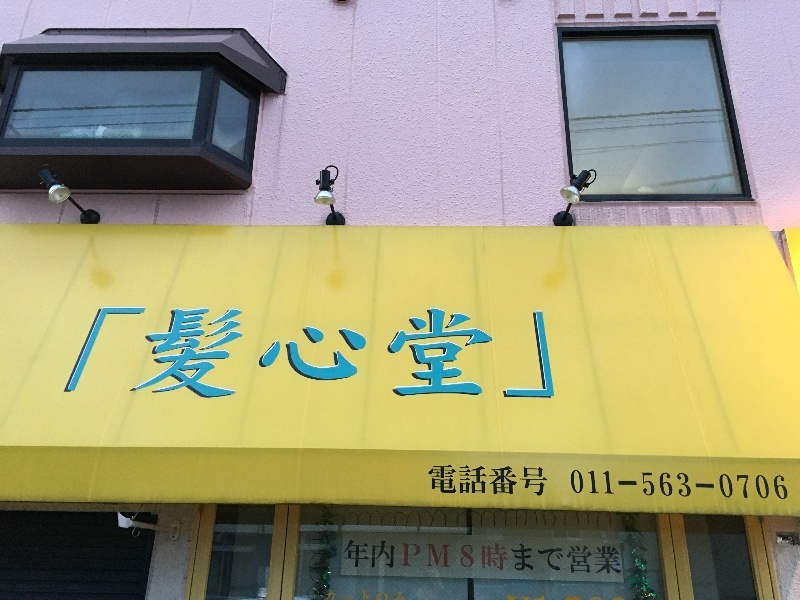text: (177, 303, 192, 403), (193, 303, 208, 403), (209, 303, 224, 403), (225, 303, 240, 403), (241, 303, 256, 403), (257, 303, 272, 403), (273, 303, 288, 403), (289, 303, 304, 403), (305, 303, 320, 403), (321, 303, 336, 403), (337, 303, 352, 403), (353, 303, 368, 403), (369, 303, 384, 403), (385, 303, 400, 403), (401, 303, 416, 403), (417, 303, 432, 403), (433, 303, 448, 403), (449, 303, 464, 403), (465, 303, 480, 403), (481, 303, 496, 403), (497, 303, 512, 403), (513, 303, 528, 403), (529, 303, 544, 403), (545, 303, 557, 403), (353, 539, 368, 578), (369, 539, 384, 578), (385, 539, 400, 578), (401, 539, 416, 578), (417, 539, 432, 578), (433, 539, 448, 578), (449, 539, 464, 578), (465, 539, 480, 578), (481, 539, 496, 578), (497, 539, 512, 578), (513, 539, 528, 578), (529, 539, 544, 578), (545, 539, 560, 578), (561, 539, 576, 578), (577, 539, 592, 578), (593, 539, 608, 578), (433, 463, 448, 497), (449, 463, 464, 497), (465, 463, 480, 497), (481, 463, 496, 497), (497, 463, 512, 497), (513, 463, 528, 497), (529, 463, 544, 497), (609, 539, 622, 578), (577, 470, 592, 501), (593, 470, 608, 501), (609, 470, 624, 501), (625, 470, 640, 501), (641, 470, 656, 501), (657, 470, 672, 501), (673, 470, 688, 501), (689, 470, 704, 501), (705, 470, 720, 501), (721, 470, 736, 501), (737, 470, 752, 501), (753, 470, 768, 501), (769, 470, 784, 501), (343, 539, 352, 578), (173, 303, 176, 403), (570, 470, 576, 501), (785, 470, 791, 501), (545, 463, 550, 497), (429, 463, 432, 497)
